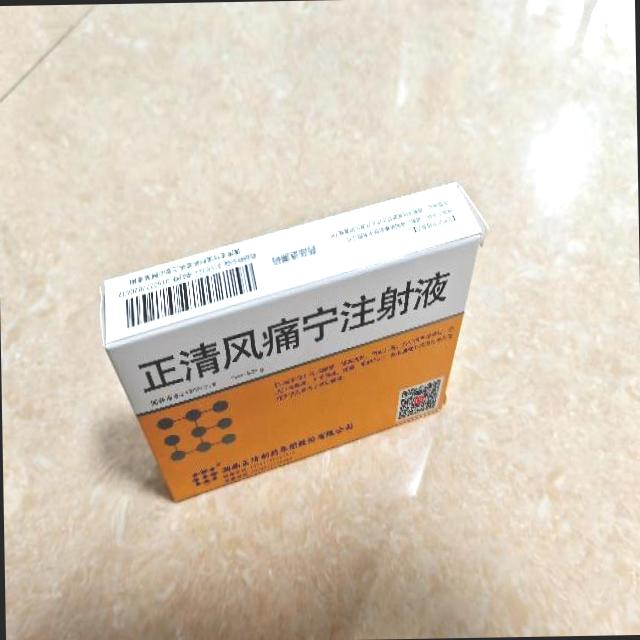box: (99, 179, 494, 505)
